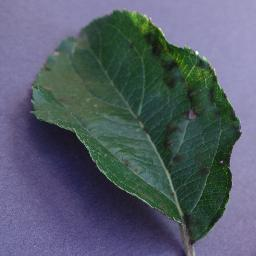apple healthy: (29, 7, 242, 254)
